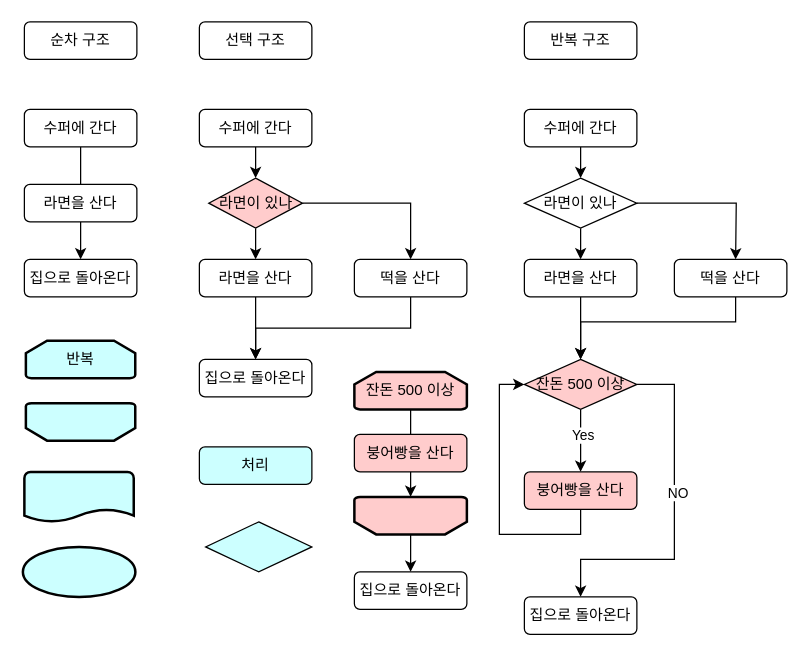
The diagram is 809 pixels wide and 656 high, and some of its shapes have lost their labels. The centre of each missing label's shape, as x and y in pixels:
"분기" goes at point 258,546.
"시작/끝" goes at point 78,571.
"출력" goes at point 78,496.
